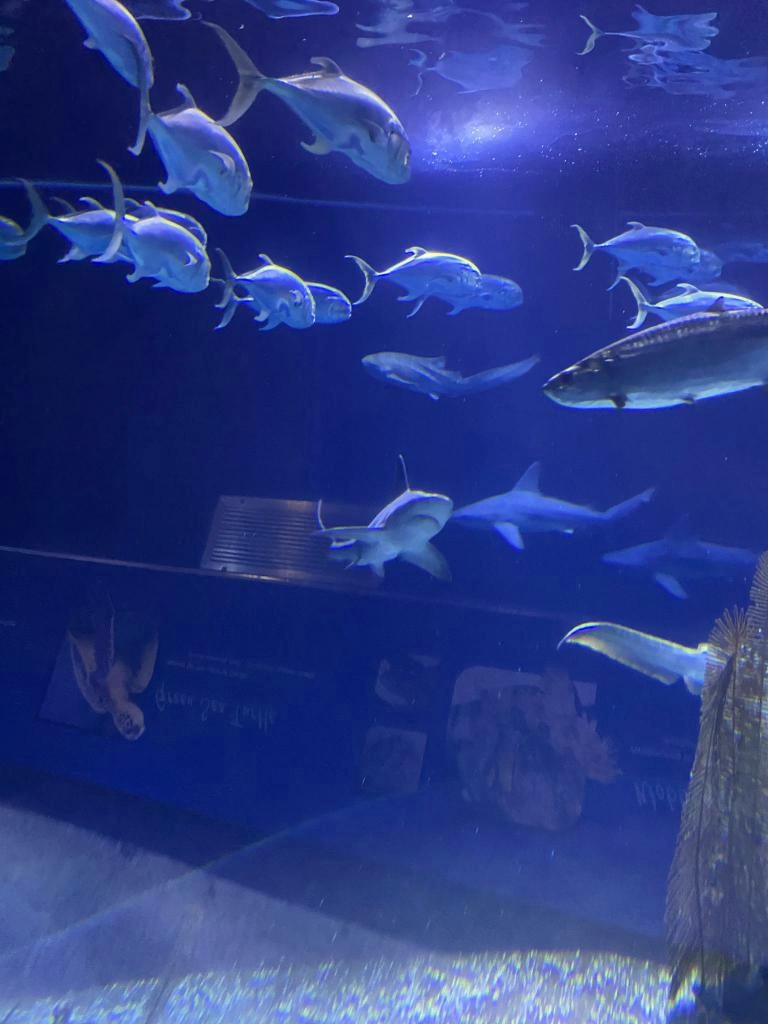fish: (218, 42, 418, 180), (526, 303, 768, 409), (134, 90, 262, 224), (92, 170, 214, 296), (52, 0, 166, 94), (368, 346, 540, 406), (27, 180, 134, 262), (214, 252, 322, 328), (563, 218, 701, 274), (92, 194, 210, 258), (604, 289, 768, 333), (349, 248, 482, 302), (208, 284, 366, 328), (399, 270, 527, 322), (613, 244, 727, 282), (0, 211, 31, 271)
shark: (454, 476, 644, 550), (307, 490, 449, 580), (604, 523, 766, 595)
